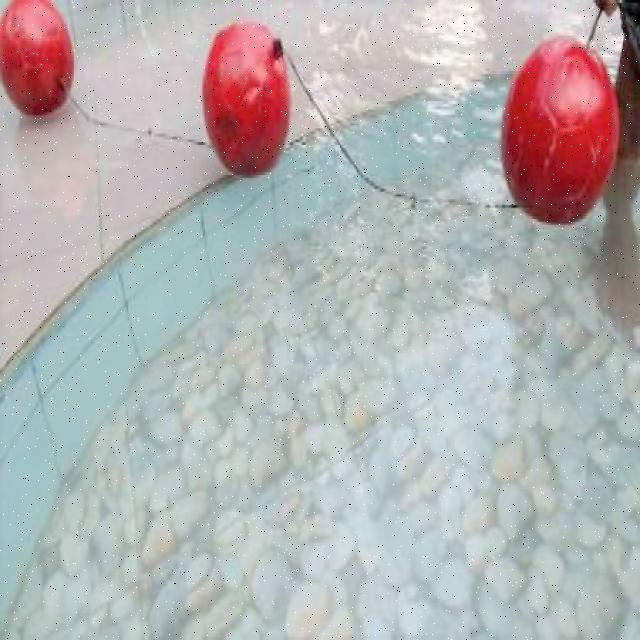buoy: (502, 35, 620, 222), (200, 18, 292, 174), (0, 0, 75, 118)
